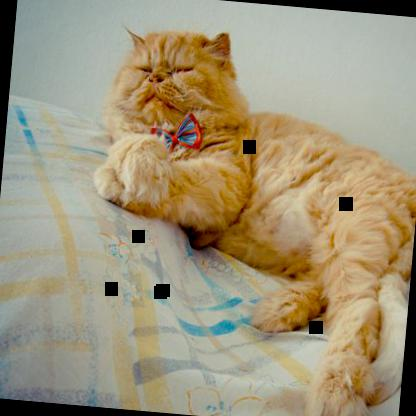cat: (77, 22, 415, 415)
